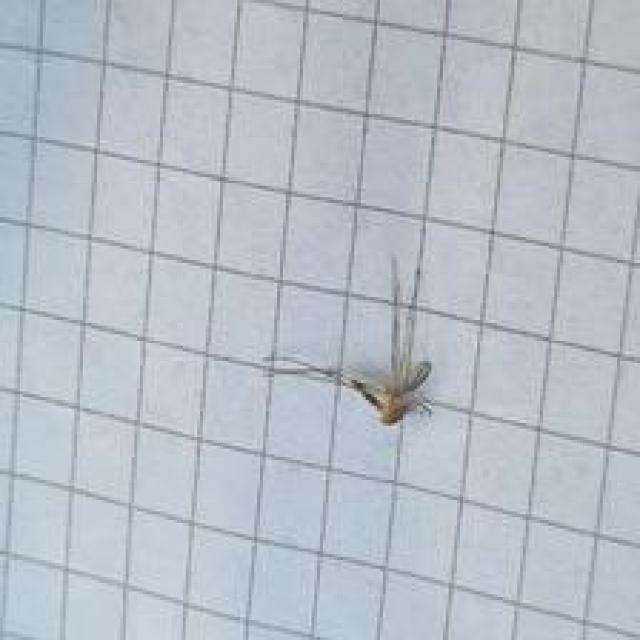Culex: (261, 254, 436, 429)
